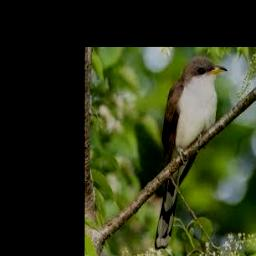Cuckoo: (155, 57, 228, 249)
